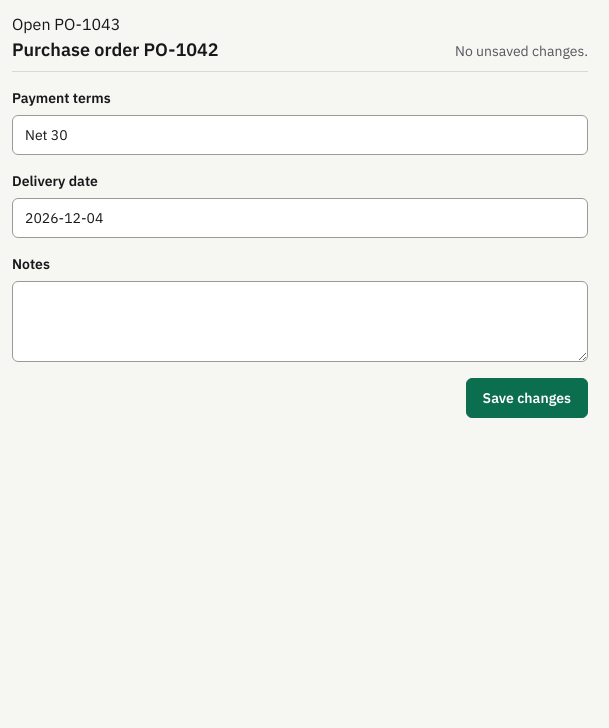
Scenario: EditConflictForm › merges non-overlapping changes and asks only about fields both people changed
The width and height of the screenshot is (609, 728).
Replace the text in the field labelled "Payment terms" with "Net 45" at (300, 135), box [12,115,588,155]
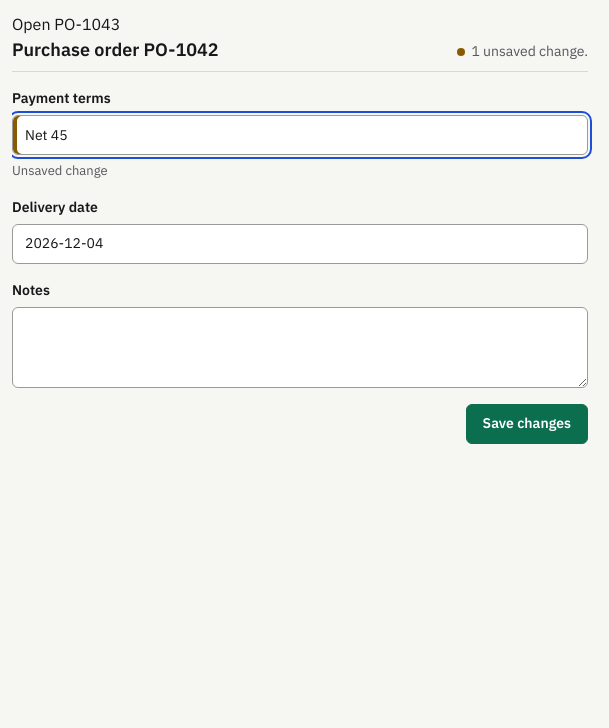
Type "Dock 2" into the text box labelled "Notes".
click(300, 347); type("Dock 2")  # box [12,306,588,388]
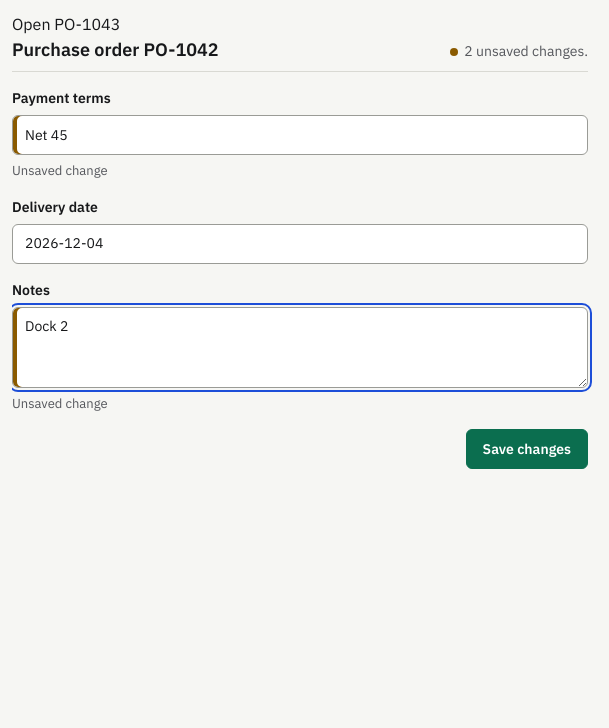
Click the button "Save changes".
click(527, 449)  # box [466,429,588,469]
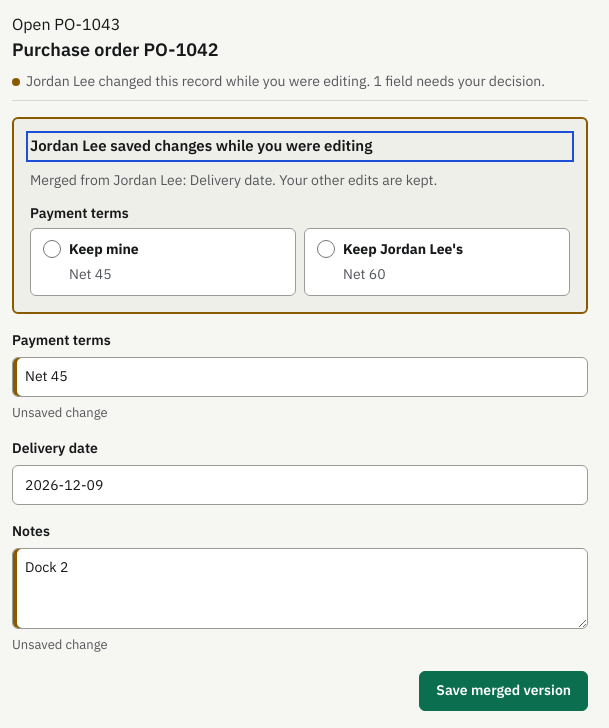
Expected: the message shows "1 field needs your decision", [26,72,545,90]
Expected: the text "Merged from Jordan Lee: Delivery date" is shown, [30,170,437,188]
Expected: the field labelled "Delivery date" holds "2026-12-09", [12,465,588,505]
// Saving without a decision is refused with a message, not a silent overwrite.
Click the button "Save merged version".
click(504, 690)  # box [419,670,588,710]
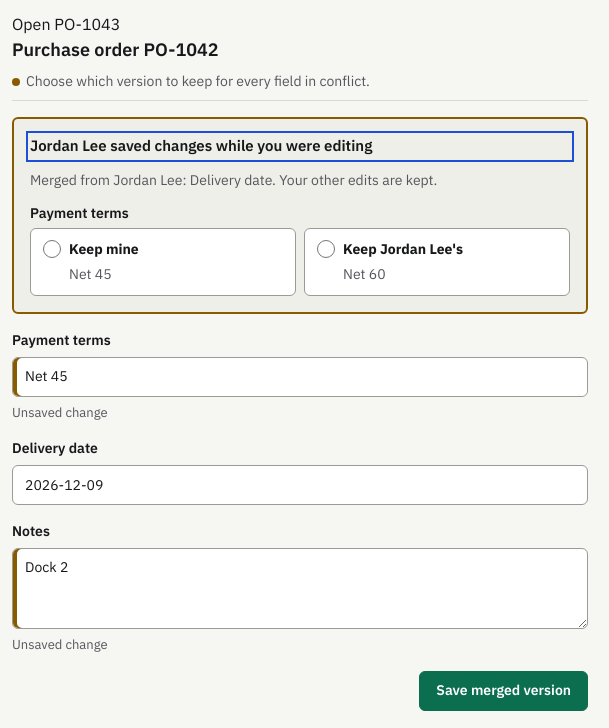
Expected: the element "Payment terms" shows "Net 45", [69,264,112,282]
Expected: the element "Payment terms" shows "Net 60", [343,264,386,282]
Expected: the message shows "Choose which version to keep", [26,72,370,90]
Click the radio button labelled "Keep Jordan Lee's Net 60".
click(326, 248)  # box [317,240,335,258]
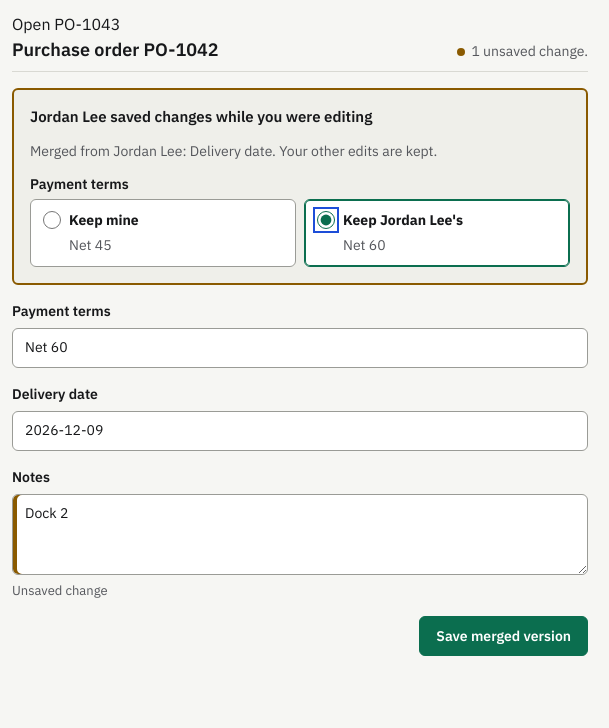
Click the button "Save merged version".
click(504, 636)  # box [419,616,588,656]
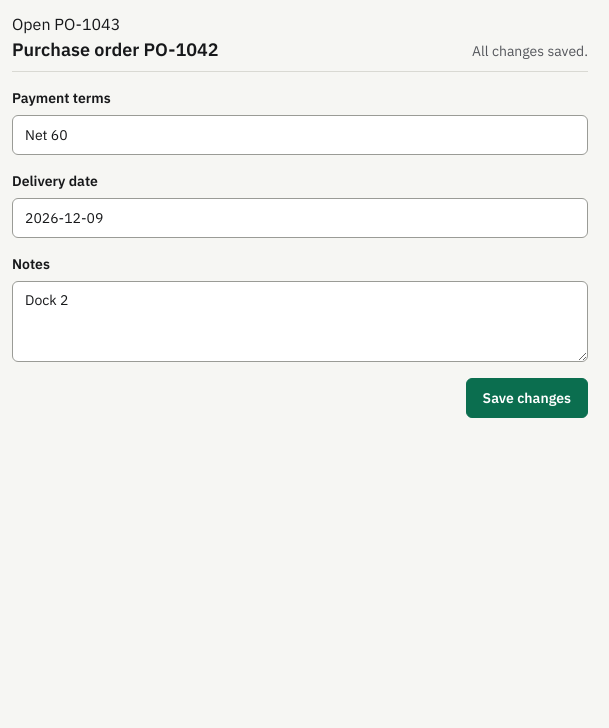
Expected: the message reads "All changes saved.", [472,42,588,60]
